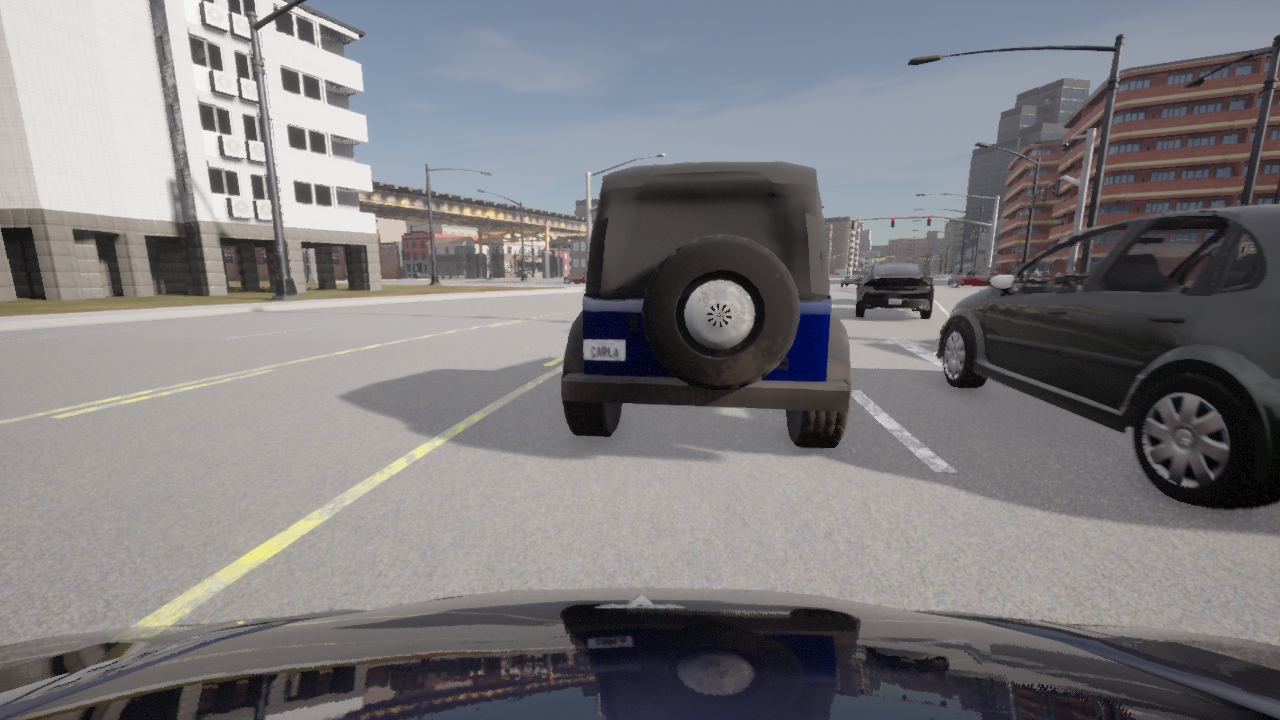cyclist: (0, 588, 1279, 719), (935, 204, 1279, 510), (562, 161, 851, 447), (852, 262, 933, 318), (946, 269, 1001, 288), (839, 270, 864, 287), (563, 271, 586, 284), (416, 272, 432, 278), (439, 272, 451, 278)
pedestrian: (976, 264, 982, 268)
